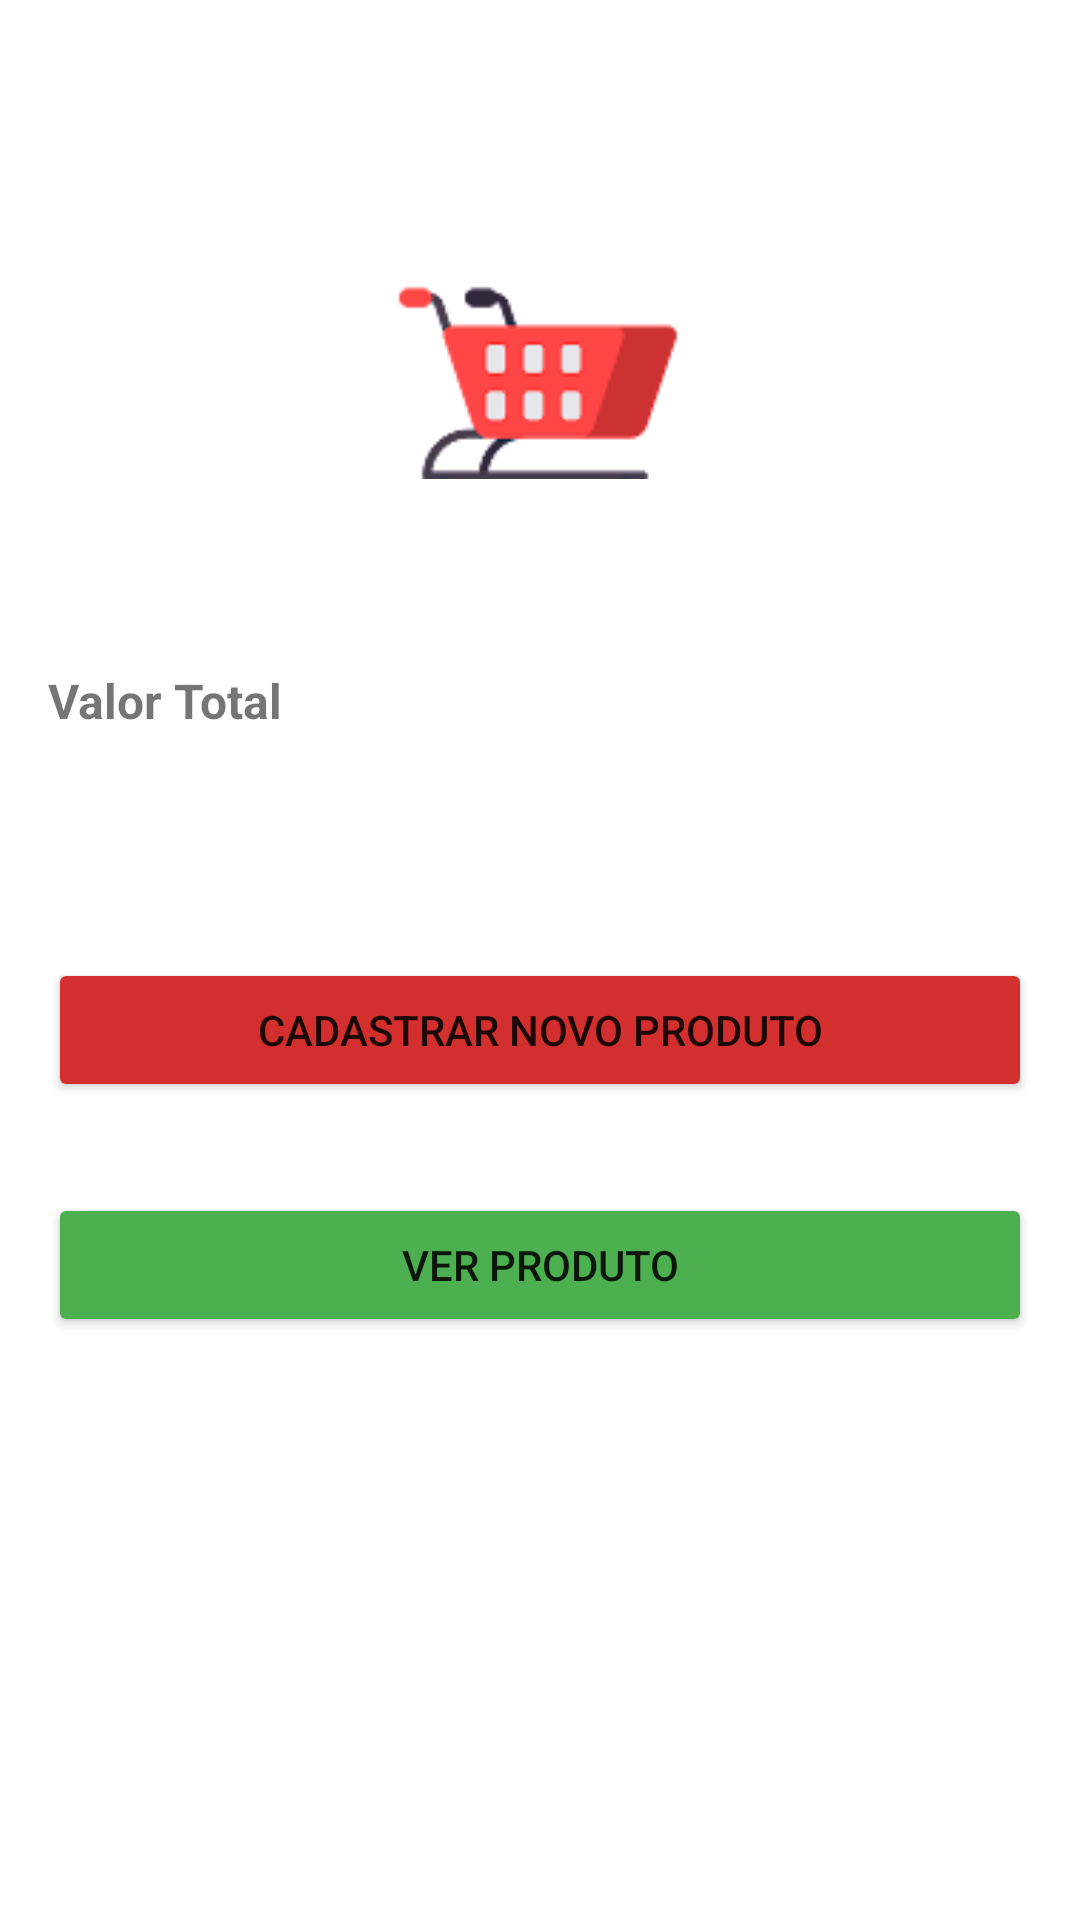

Icon bounding boxes for this 1080x1920 phone screenshot, format (x1, y1, x2, y2):
carrinho: (398, 287, 678, 479)
